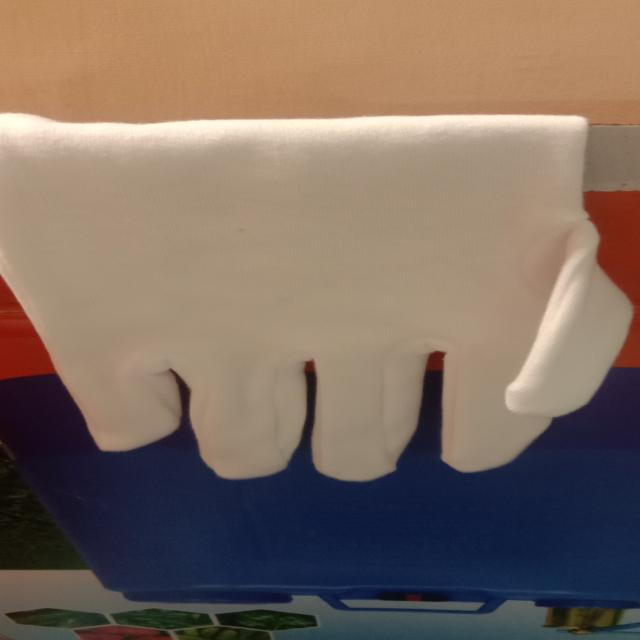Gloves: (4, 108, 636, 490)
